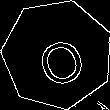O_NW: (27, 23, 87, 86)
